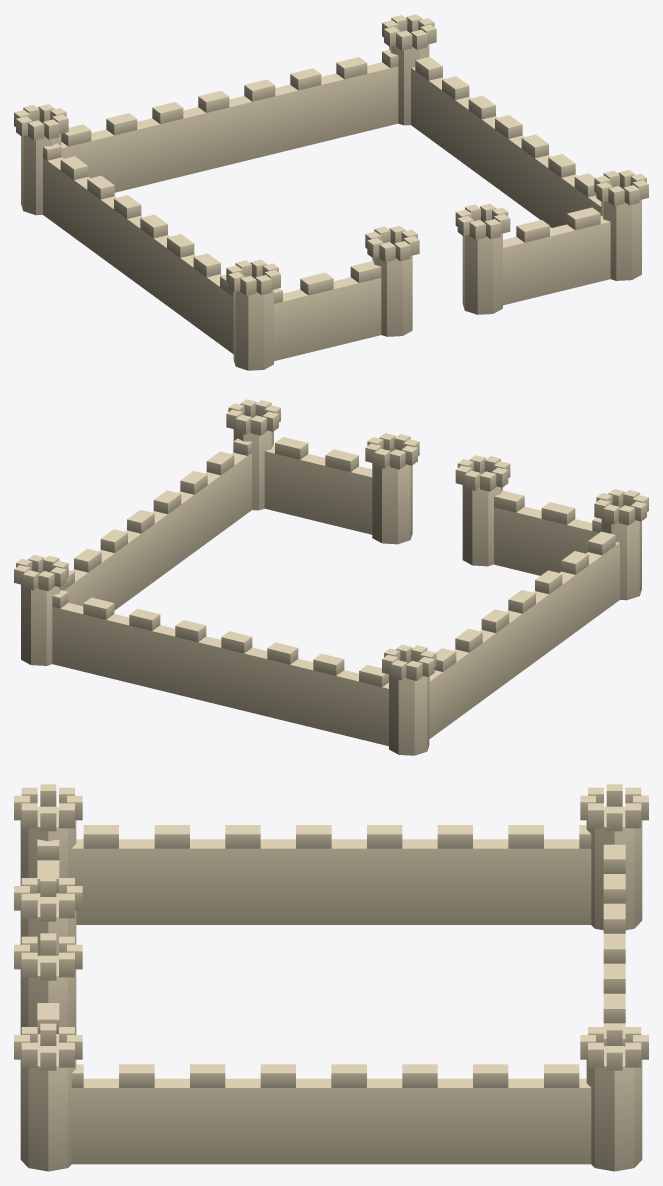
File: wall_ME_2.glb
The picture shows the model from 3 angles, top to bottom: view 1: azimuth 30°, elevation 25°; view 2: azimuth 150°, elevation 25°; view 3: azimuth 270°, elevation 25°; orthographic projection. The views are drawn at different scales.
Parts seen in each view (by area): view 1: Body; view 2: Body; view 3: Body.
Boxes of the visible parts, x1,y1,x2,y2 form: Body: (14, 14, 648, 370); Body: (14, 399, 648, 755); Body: (14, 784, 648, 1171).
Size of the model in its own units: 6.39 by 1.35 by 6.39.
Materials: 1 (1 with a texture image).
